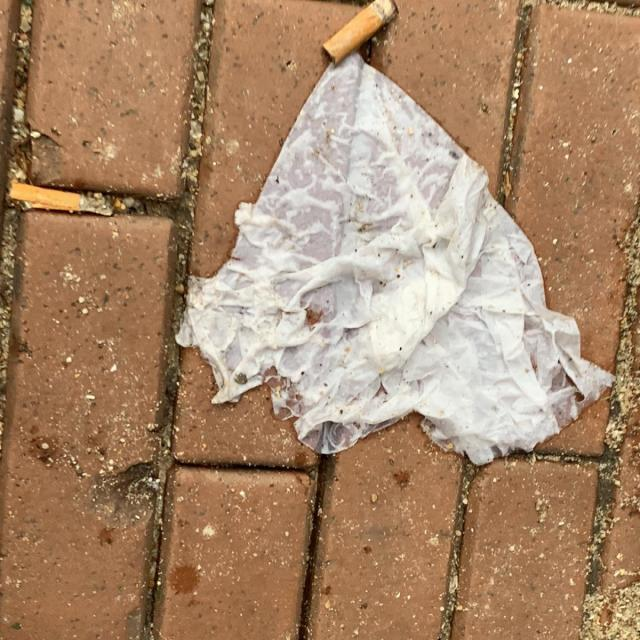Paper: (173, 49, 618, 470)
